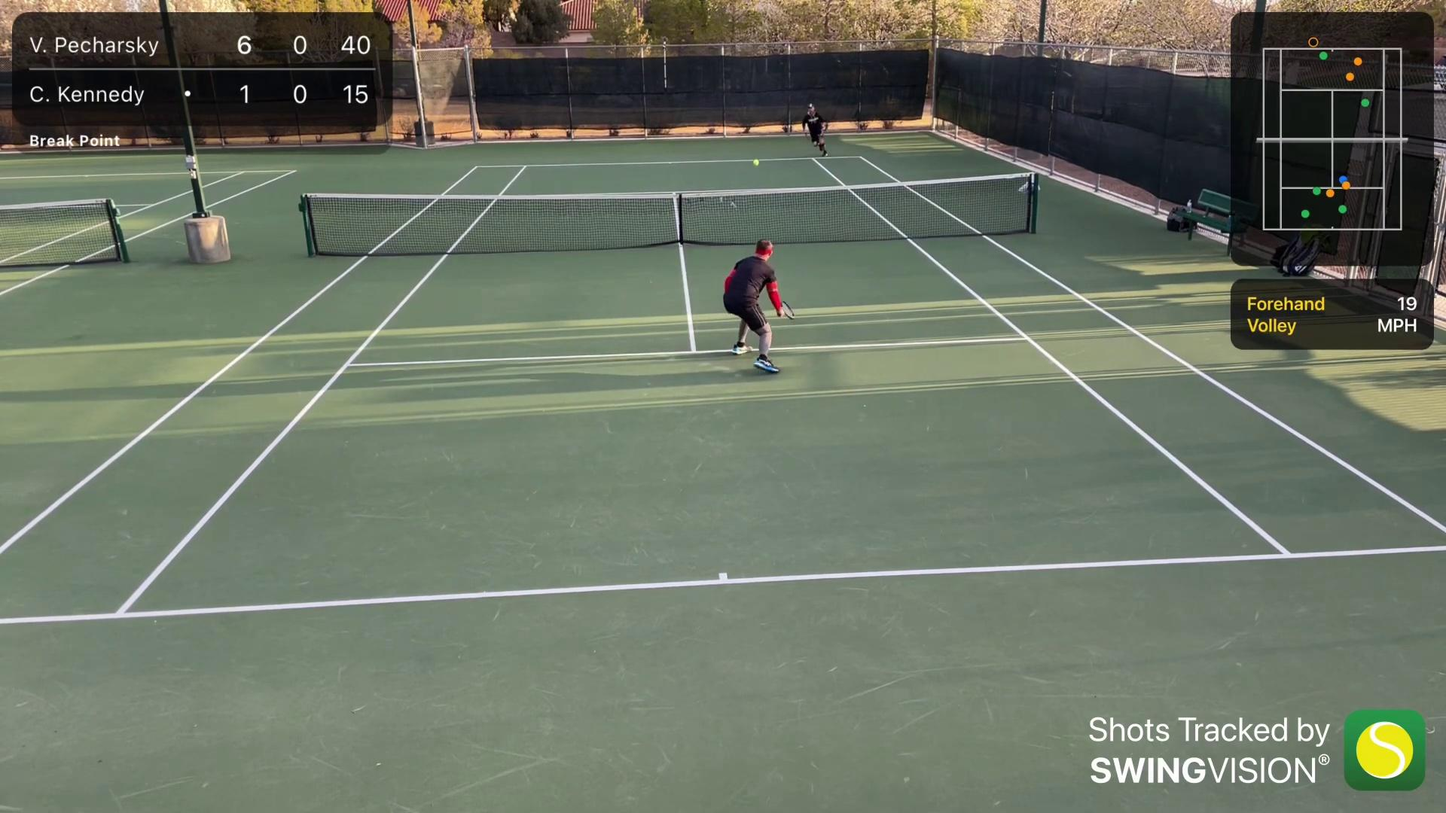ball: (753, 158, 758, 165)
